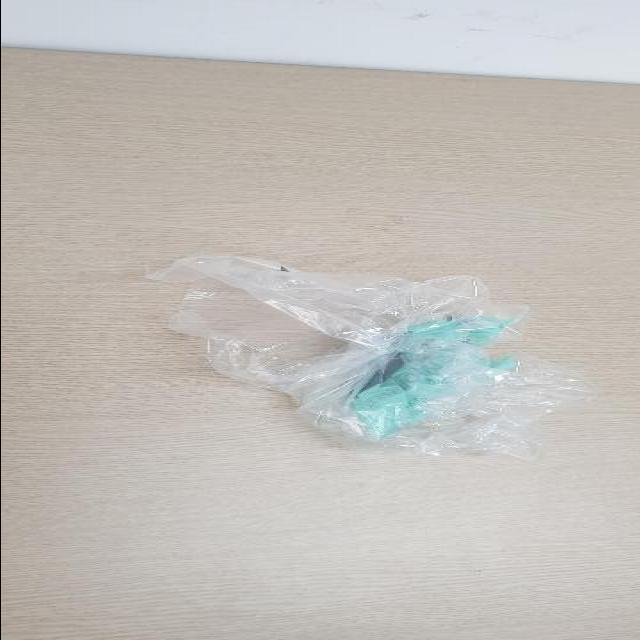plastic bag: (148, 249, 610, 468)
